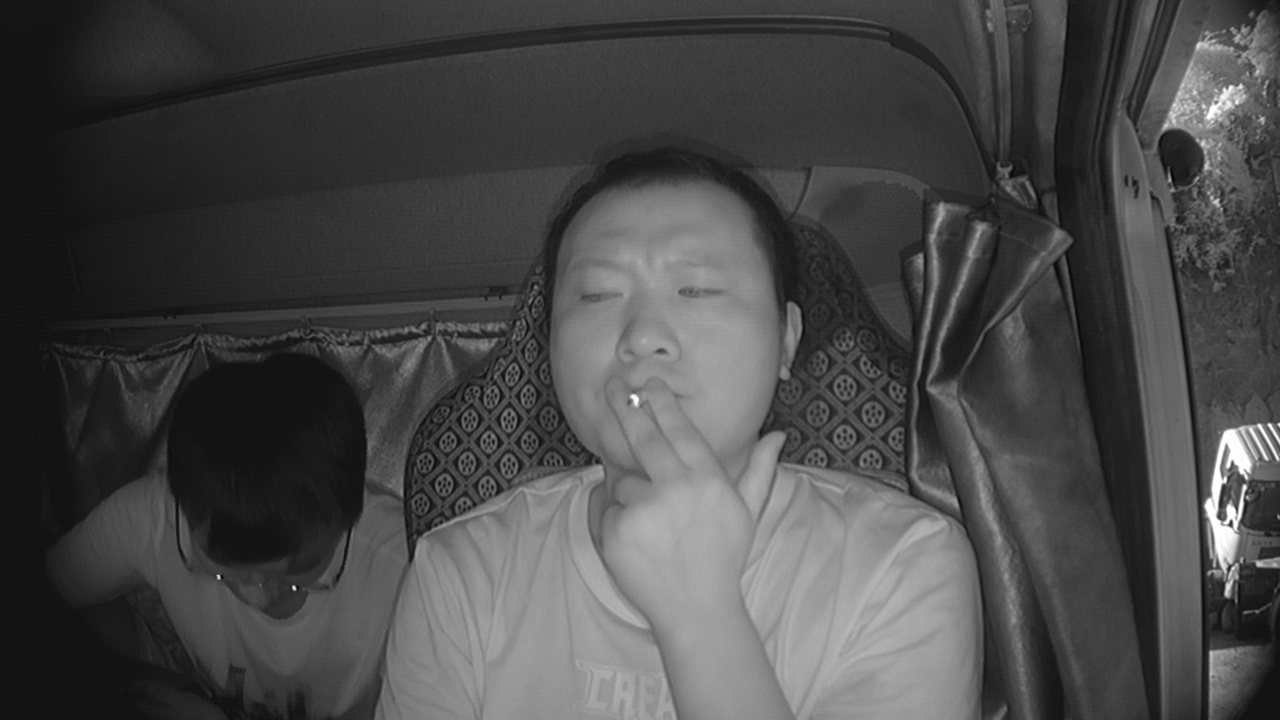hand: (599, 374, 786, 614)
